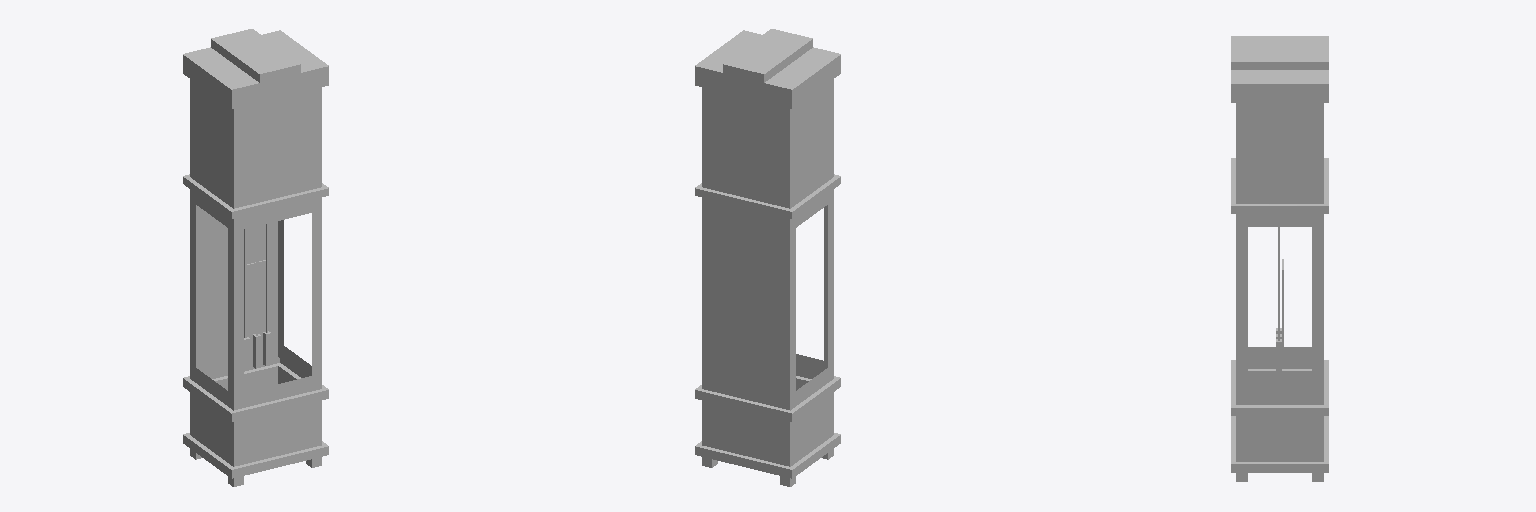
File: clock.obj
The picture shows the model from 3 angles: view 1: azimuth 30°, elevation 25°; view 2: azimuth 150°, elevation 25°; view 3: azimuth 270°, elevation 25°; orthographic projection.
Parts seen in each view (by area): view 1: Main, Swing; view 2: Main; view 3: Main, Swing.
Part boxes in pixels (bbox=[...]): Main: bbox=[183, 29, 328, 486]; Swing: bbox=[244, 224, 270, 371]; Main: bbox=[695, 29, 840, 486]; Main: bbox=[1231, 36, 1328, 481]; Swing: bbox=[1276, 227, 1283, 372].
Bounding box in the file's own units: 8.9 × 35.54 × 7.71.